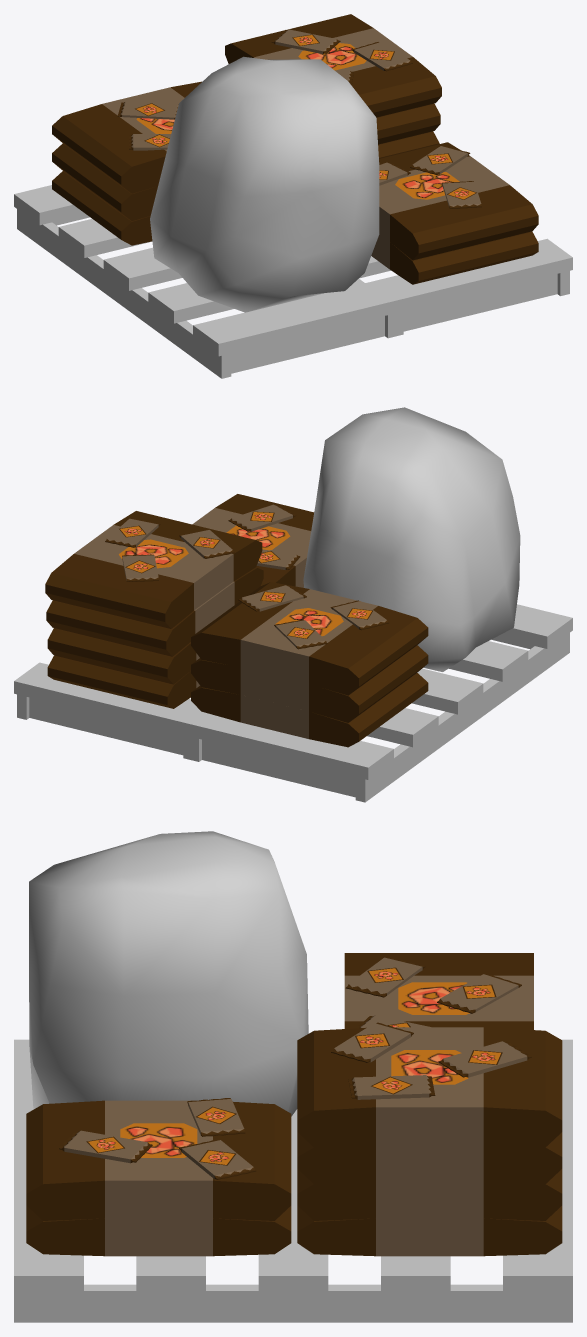
File: Evelmart_Shelf_Alt_Earth.001.fbx
The picture shows the model from 3 angles, top to bottom: view 1: azimuth 30°, elevation 25°; view 2: azimuth 150°, elevation 25°; view 3: azimuth 270°, elevation 25°; orthographic projection. The views are drawn at different scales.
Visible parts, largest first — view 1: Dirt; view 2: Dirt; view 3: Dirt.
Part boxes in pixels (x1,y1,x2,y2): Dirt: [14, 14, 572, 378]; Dirt: [14, 407, 572, 802]; Dirt: [14, 831, 572, 1322].
Bounding box in the file's own units: 400 × 250 × 400.
